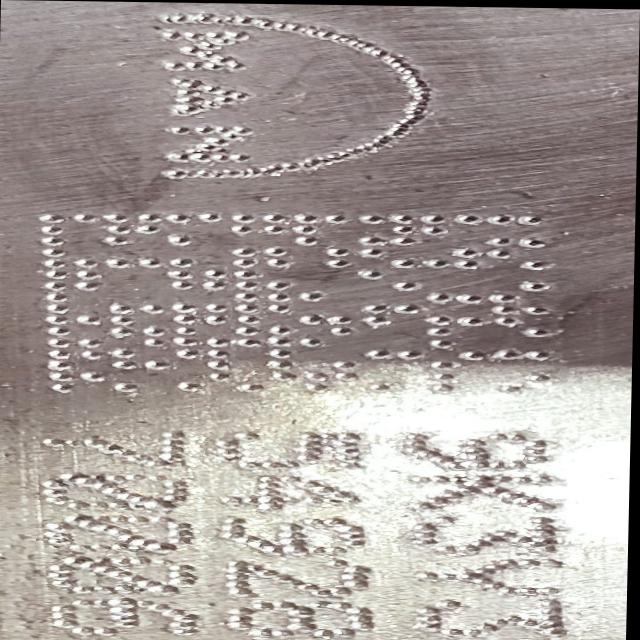dmc: (41, 213, 552, 392)
